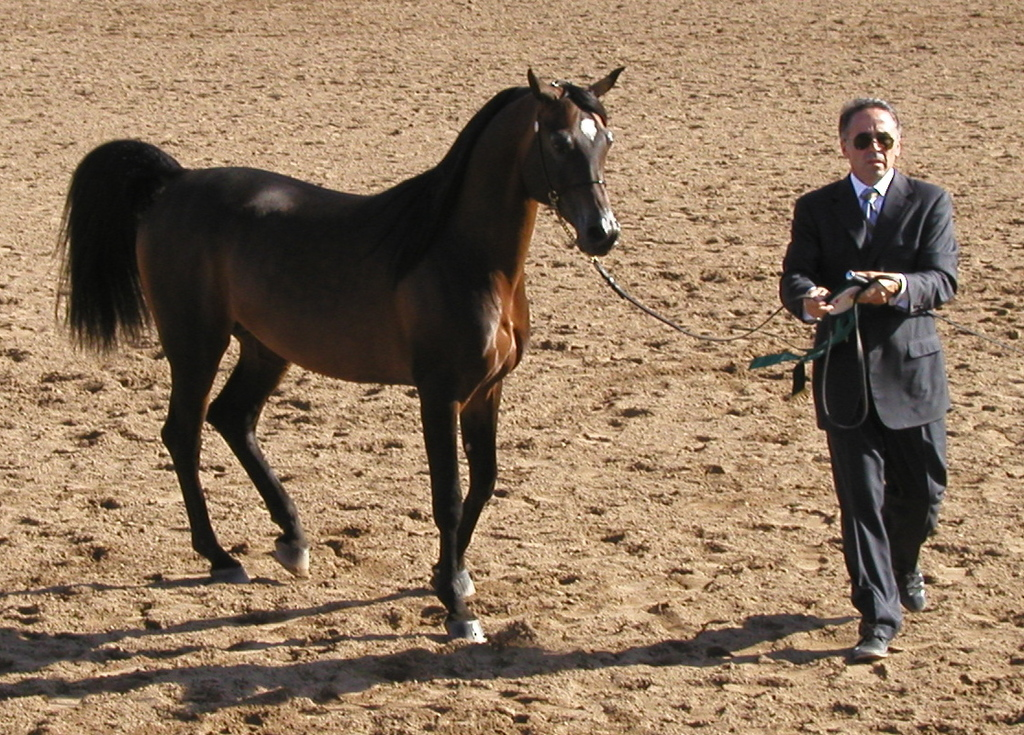horse: (39, 59, 626, 638)
